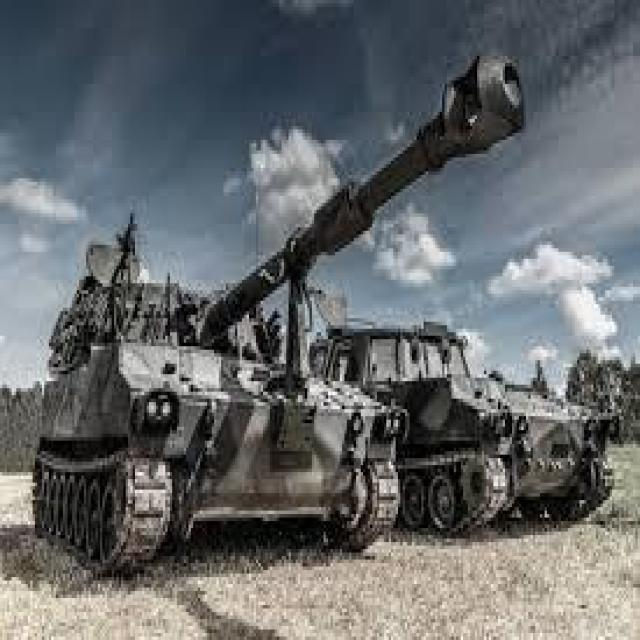Tanks: (43, 124, 571, 589)
